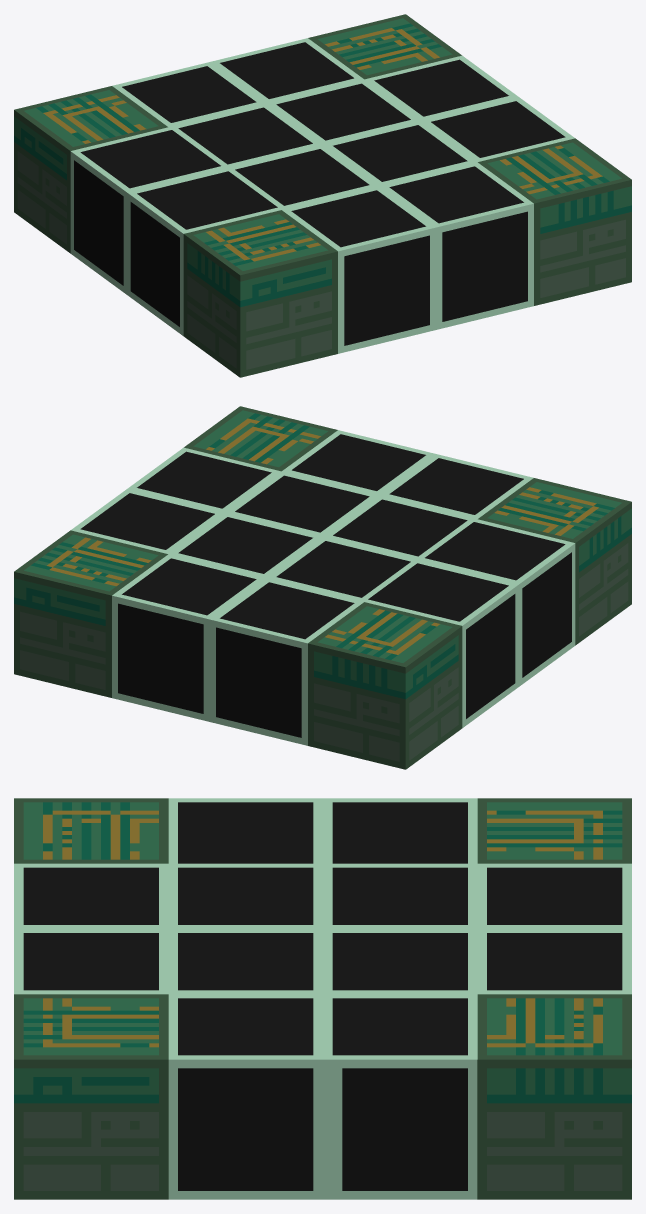
The model's file is m_tiles_10_4x4.fbx.
3 renders of one model, top to bottom at view 1: azimuth 30°, elevation 25°; view 2: azimuth 150°, elevation 25°; view 3: azimuth 270°, elevation 25°, orthographic. The views are drawn at different scales.
Visible parts, largest first — view 1: m_tiles_10_4x4; view 2: m_tiles_10_4x4; view 3: m_tiles_10_4x4.
Boxes of the visible parts, x1,y1,x2,y2 form: m_tiles_10_4x4: (14,14,631,377); m_tiles_10_4x4: (14,406,631,769); m_tiles_10_4x4: (14,798,631,1199).
Bounding box in the file's own units: 6.4 × 1.6 × 6.4.
Materials: 1 (1 with a texture image).
